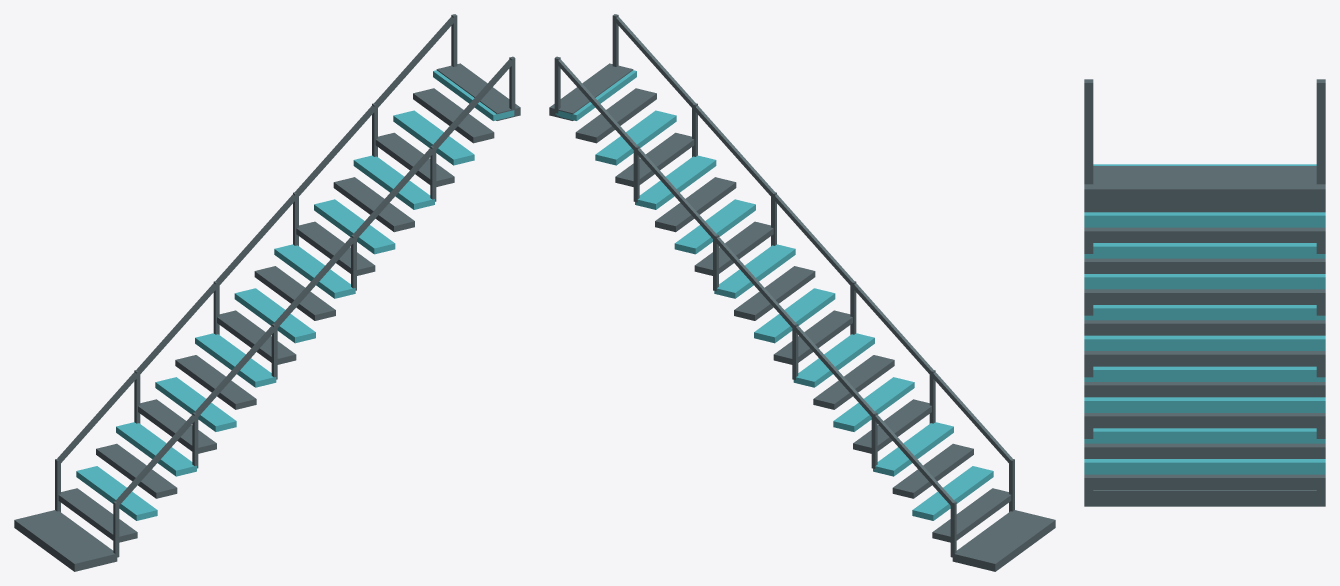
File: east_upper_transition_stair_visual_top3d.glb
3 renders of one model, left to right at view 1: azimuth 30°, elevation 25°; view 2: azimuth 150°, elevation 25°; view 3: azimuth 270°, elevation 25°, orthographic. The views are drawn at different scales.
Parts seen in each view (by area): view 1: Rail_Right, Rail_Left, LowerLanding, Step_18, Step_02, Step_14, Step_06, Step_01, Step_17, Step_05, Step_10, Step_09 (+12 smaller); view 2: Rail_Right, Rail_Left, LowerLanding, Step_18, Step_02, Step_14, Step_06, Step_01, Step_17, Step_05, Step_10, Step_09 (+12 smaller); view 3: UpperLanding, LowerLanding, Step_00, Step_01, Step_02, Step_04, Step_05, Step_06, Step_08, Step_09, Step_10, Step_12 (+12 smaller).
Part boxes in pixels (<box>): Rail_Right: <box>115,59,514,506</box>; Rail_Left: <box>57,16,455,462</box>; LowerLanding: <box>14,510,117,571</box>; Step_18: <box>413,88,494,143</box>; Step_02: <box>96,443,177,498</box>; Step_14: <box>333,177,414,232</box>; Step_06: <box>175,355,256,409</box>; Step_01: <box>76,466,157,520</box>; Step_17: <box>393,110,474,165</box>; Step_05: <box>155,377,236,431</box>; Step_10: <box>254,266,335,320</box>; Step_09: <box>234,288,315,343</box>; Rail_Right: <box>613,16,1012,463</box>; Rail_Left: <box>555,59,954,506</box>; LowerLanding: <box>952,510,1055,571</box>; Step_18: <box>575,88,656,143</box>; Step_02: <box>892,443,973,498</box>; Step_14: <box>655,177,736,232</box>; Step_06: <box>813,355,894,409</box>; Step_01: <box>912,466,993,520</box>; Step_17: <box>595,110,676,165</box>; Step_05: <box>833,377,914,431</box>; Step_10: <box>734,266,815,320</box>; Step_09: <box>754,288,835,343</box>; UpperLanding: <box>1084,166,1325,205</box>; LowerLanding: <box>1084,490,1325,506</box>; Step_00: <box>1084,474,1325,489</box>; Step_01: <box>1084,459,1325,474</box>; Step_02: <box>1084,443,1325,458</box>; Step_04: <box>1084,413,1325,428</box>; Step_05: <box>1084,397,1325,412</box>; Step_06: <box>1084,382,1325,397</box>; Step_08: <box>1084,351,1325,366</box>; Step_09: <box>1084,335,1325,350</box>; Step_10: <box>1084,320,1325,335</box>; Step_12: <box>1084,289,1325,304</box>.
Bounding box in the file's own units: 9.4 × 8.18 × 2.2.
